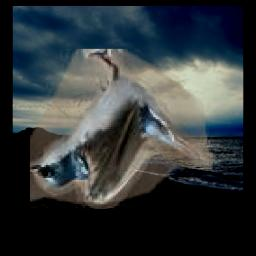Swallow: (29, 49, 212, 209)
